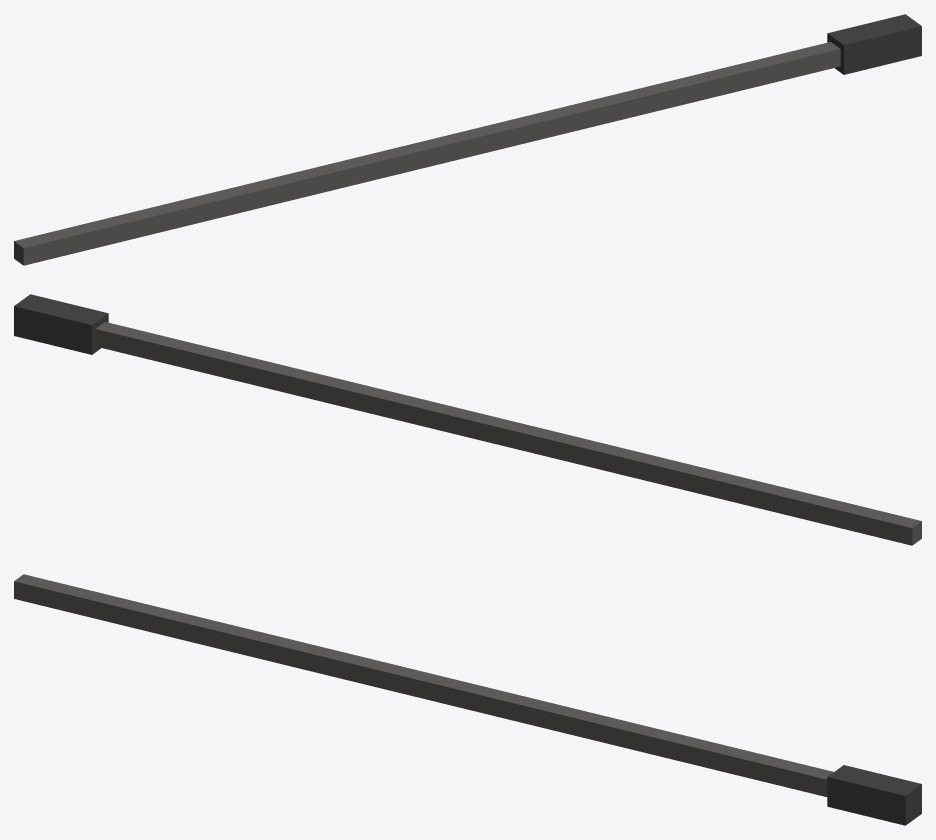
The model's file is Cable_A_1_3.fbx.
3 renders of one model, top to bottom at view 1: azimuth 30°, elevation 25°; view 2: azimuth 150°, elevation 25°; view 3: azimuth 330°, elevation 25°, orthographic.
Parts seen in each view (by area): view 1: Cable_A_1_3; view 2: Cable_A_1_3; view 3: Cable_A_1_3.
Boxes of the visible parts, box(x1,y1,x2,y2) form: Cable_A_1_3: box(14, 14, 921, 265); Cable_A_1_3: box(14, 294, 921, 545); Cable_A_1_3: box(14, 574, 921, 825).
Bounding box in the file's own units: 309 × 9.83 × 9.83.
